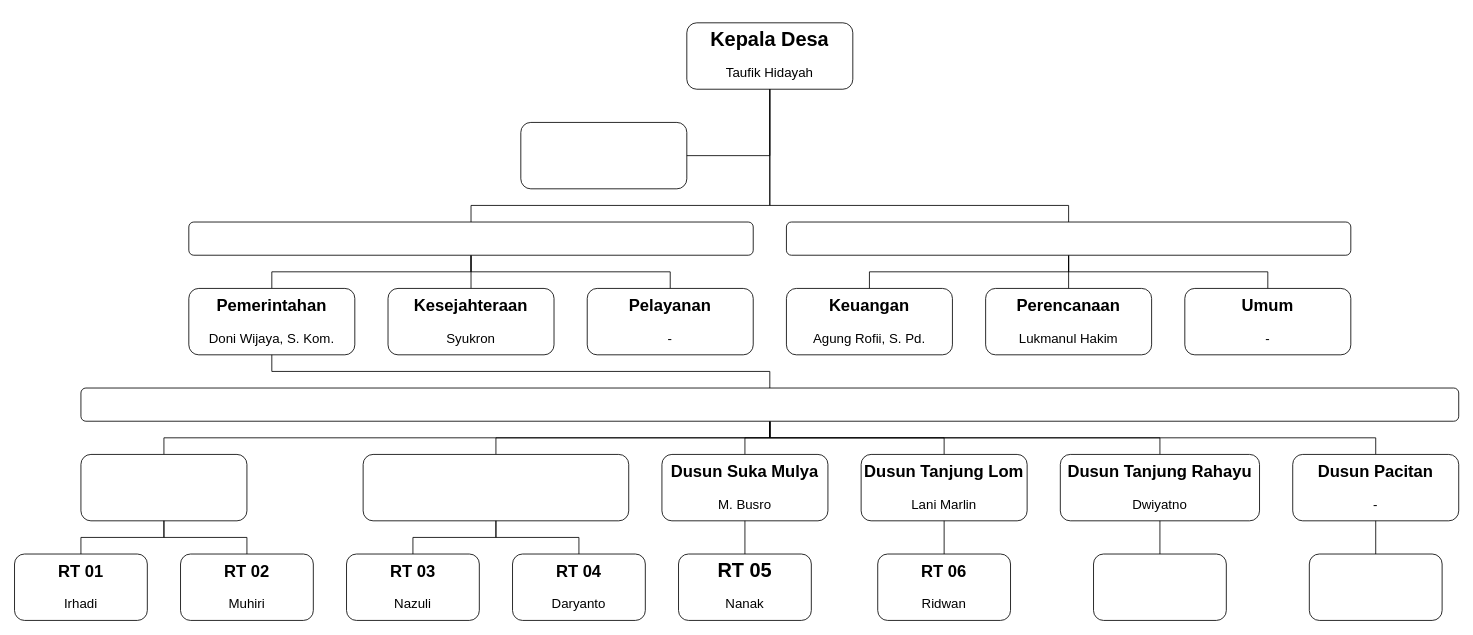
Some shapes in this 1473 by 635 pixel diagram are drawn without their labels. Each missing label, with the centre of its shape:
"Dusun Induk Hendra" belongs at point 163,487.
"Dusun Sugiwaras & Jembangan Nazaruddin" belongs at point 495,487.
"Kepala Dusun (KADUS)" belongs at point 769,404.
"Kepala Seksi (KASI)" belongs at point 470,238.
"Kepala Urusan Perencanaan (KAUR)" belongs at point 1068,238.
"RT 07 Lasimin" belongs at point 1159,586.
"RT 08 Rosadi" belongs at point 1375,586.
"Sekretaris Desa Ibnu Zaidar" belongs at point 603,155.
